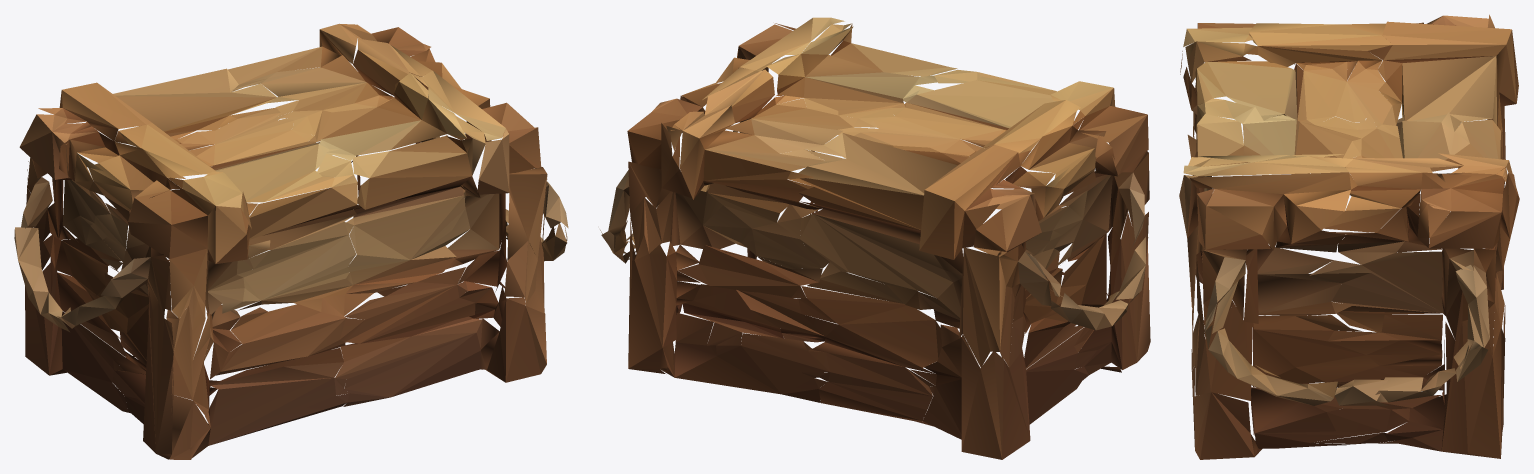
3 views of the same model, side by side, from view 1: azimuth 30°, elevation 25°; view 2: azimuth 150°, elevation 25°; view 3: azimuth 270°, elevation 25° (orthographic). The views are drawn at different scales.
Parts seen in each view (by area): view 1: 0_carryBox; view 2: 0_carryBox; view 3: 0_carryBox.
Part boxes in pixels (bbox=[...]): 0_carryBox: bbox=[14, 23, 568, 459]; 0_carryBox: bbox=[600, 17, 1150, 459]; 0_carryBox: bbox=[1179, 14, 1519, 459].
Bounding box in the file's own units: 0.3394 × 0.1818 × 0.2037.
